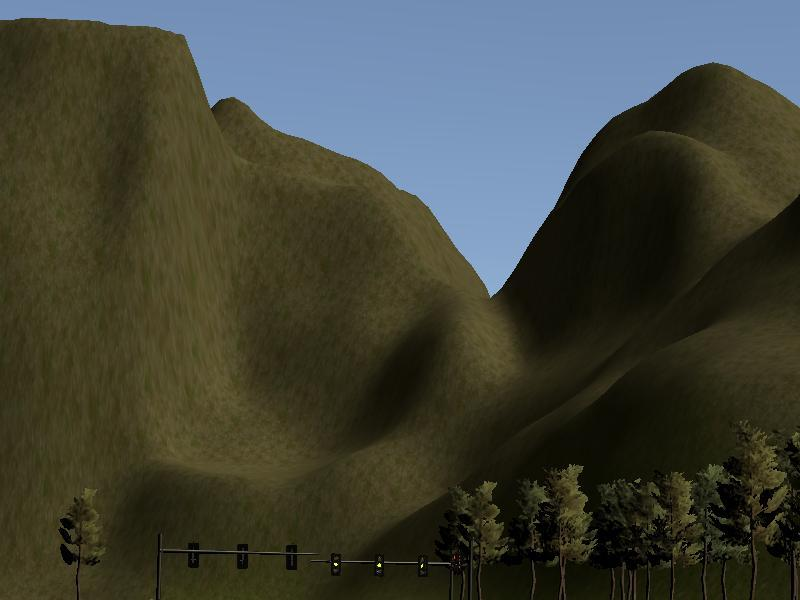Yellow: (330, 552, 341, 576), (374, 554, 385, 578), (417, 556, 428, 579)
